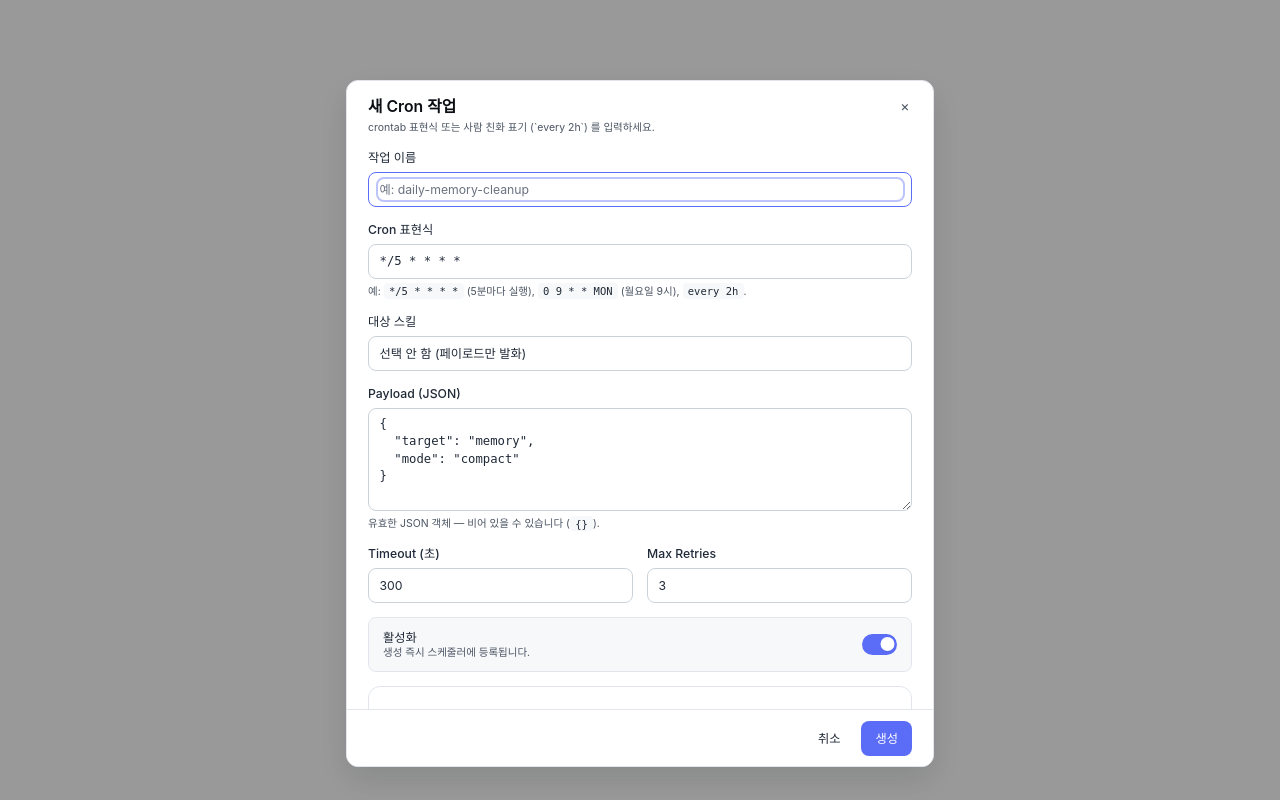
Test: NewCronJobModal › 이름이 비어 있으면 submit 차단 + 에러 라인 노출
Click the button with test id "new-cron-job-submit" at [887, 738], box 862,721 -> 912,756
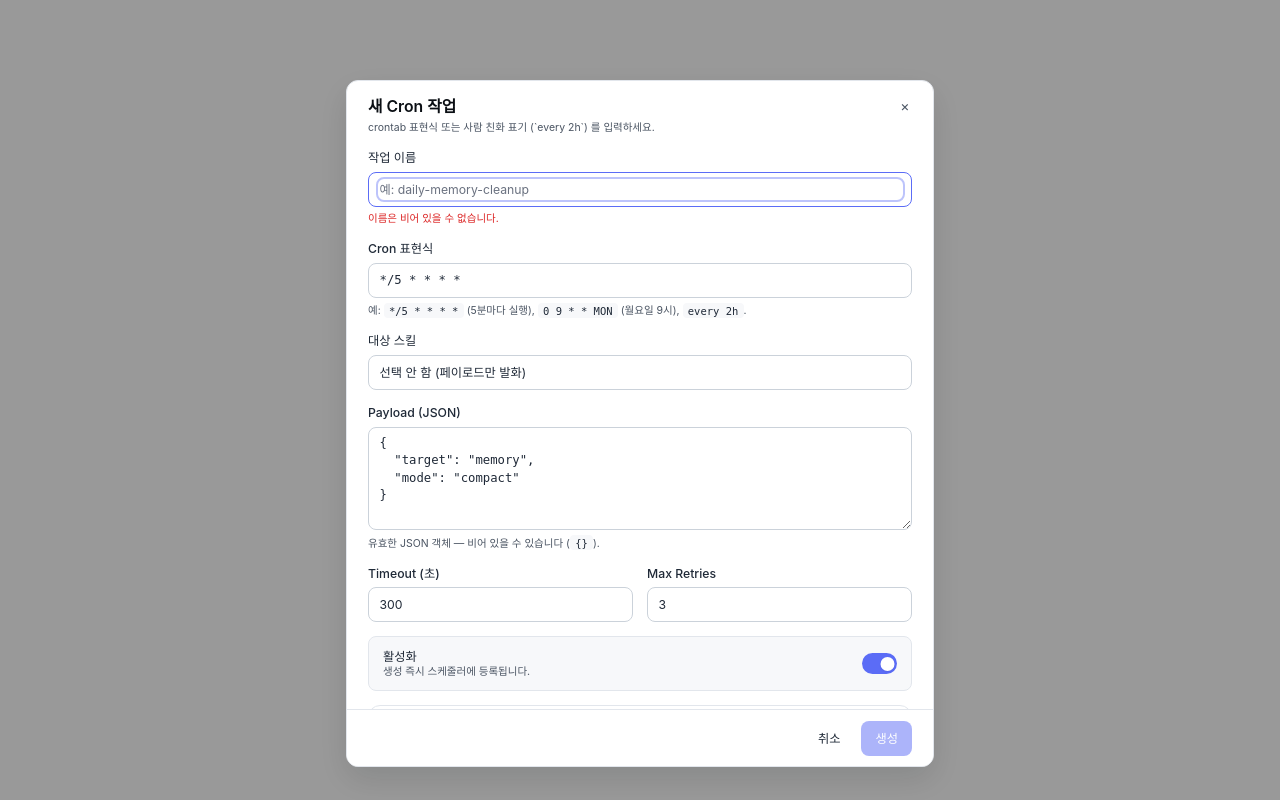
Result: the message "이름은 비어 있을 수 없습니다." is shown at 368,212 -> 499,225
